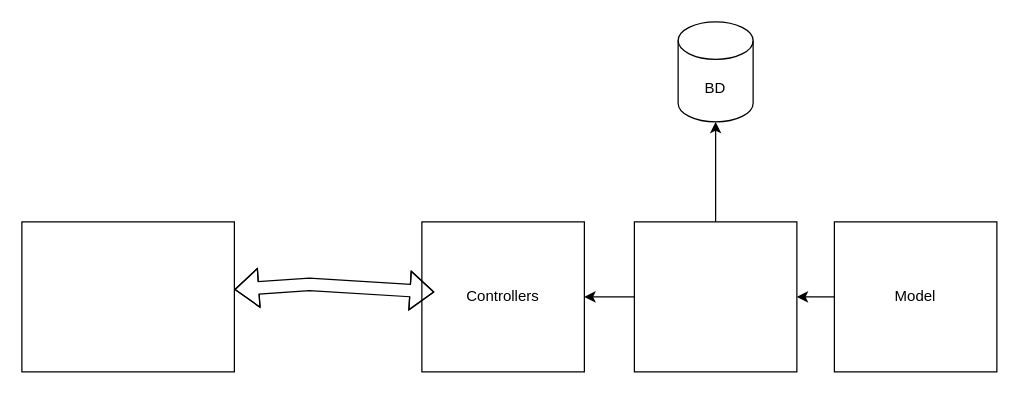
Some shapes in this 1019 by 394 pixel diagram are drawn without their labels. Each missing label, with the box of its shape:
PWA/REACT/VANILLA: (21, 221, 234, 372)
Repository: (633, 221, 797, 372)
